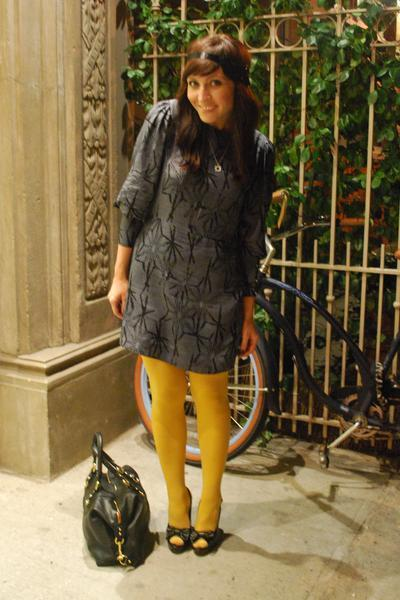bag: (82, 446, 155, 568)
dress: (117, 86, 275, 374)
shoe: (166, 516, 231, 556)
